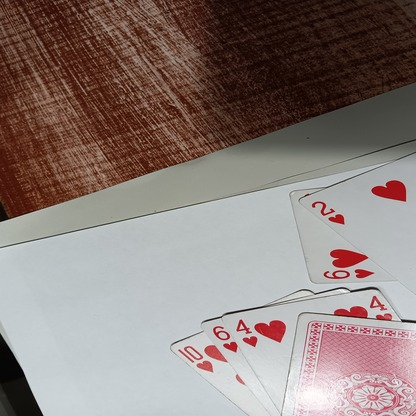10h: (177, 344, 214, 372)
2h: (309, 196, 347, 225)
4h: (368, 295, 393, 322), (236, 317, 257, 349)
6h: (212, 325, 238, 353), (323, 268, 374, 279)
